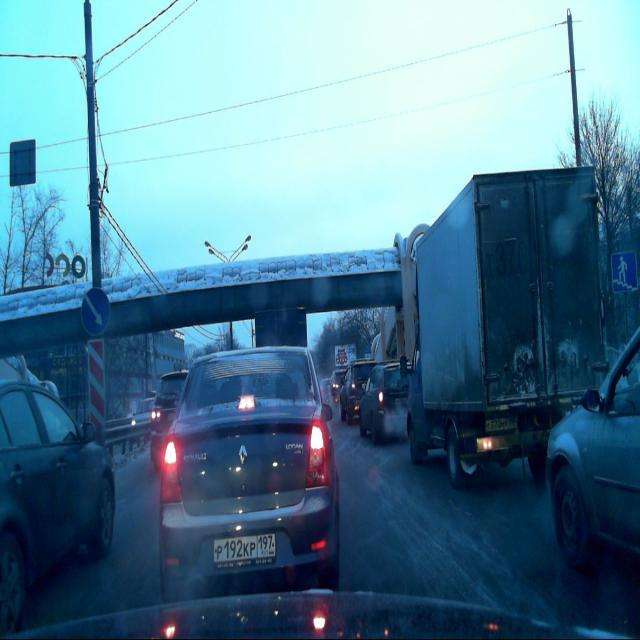object: (88, 340, 106, 432)
road sign: (610, 252, 638, 295)
